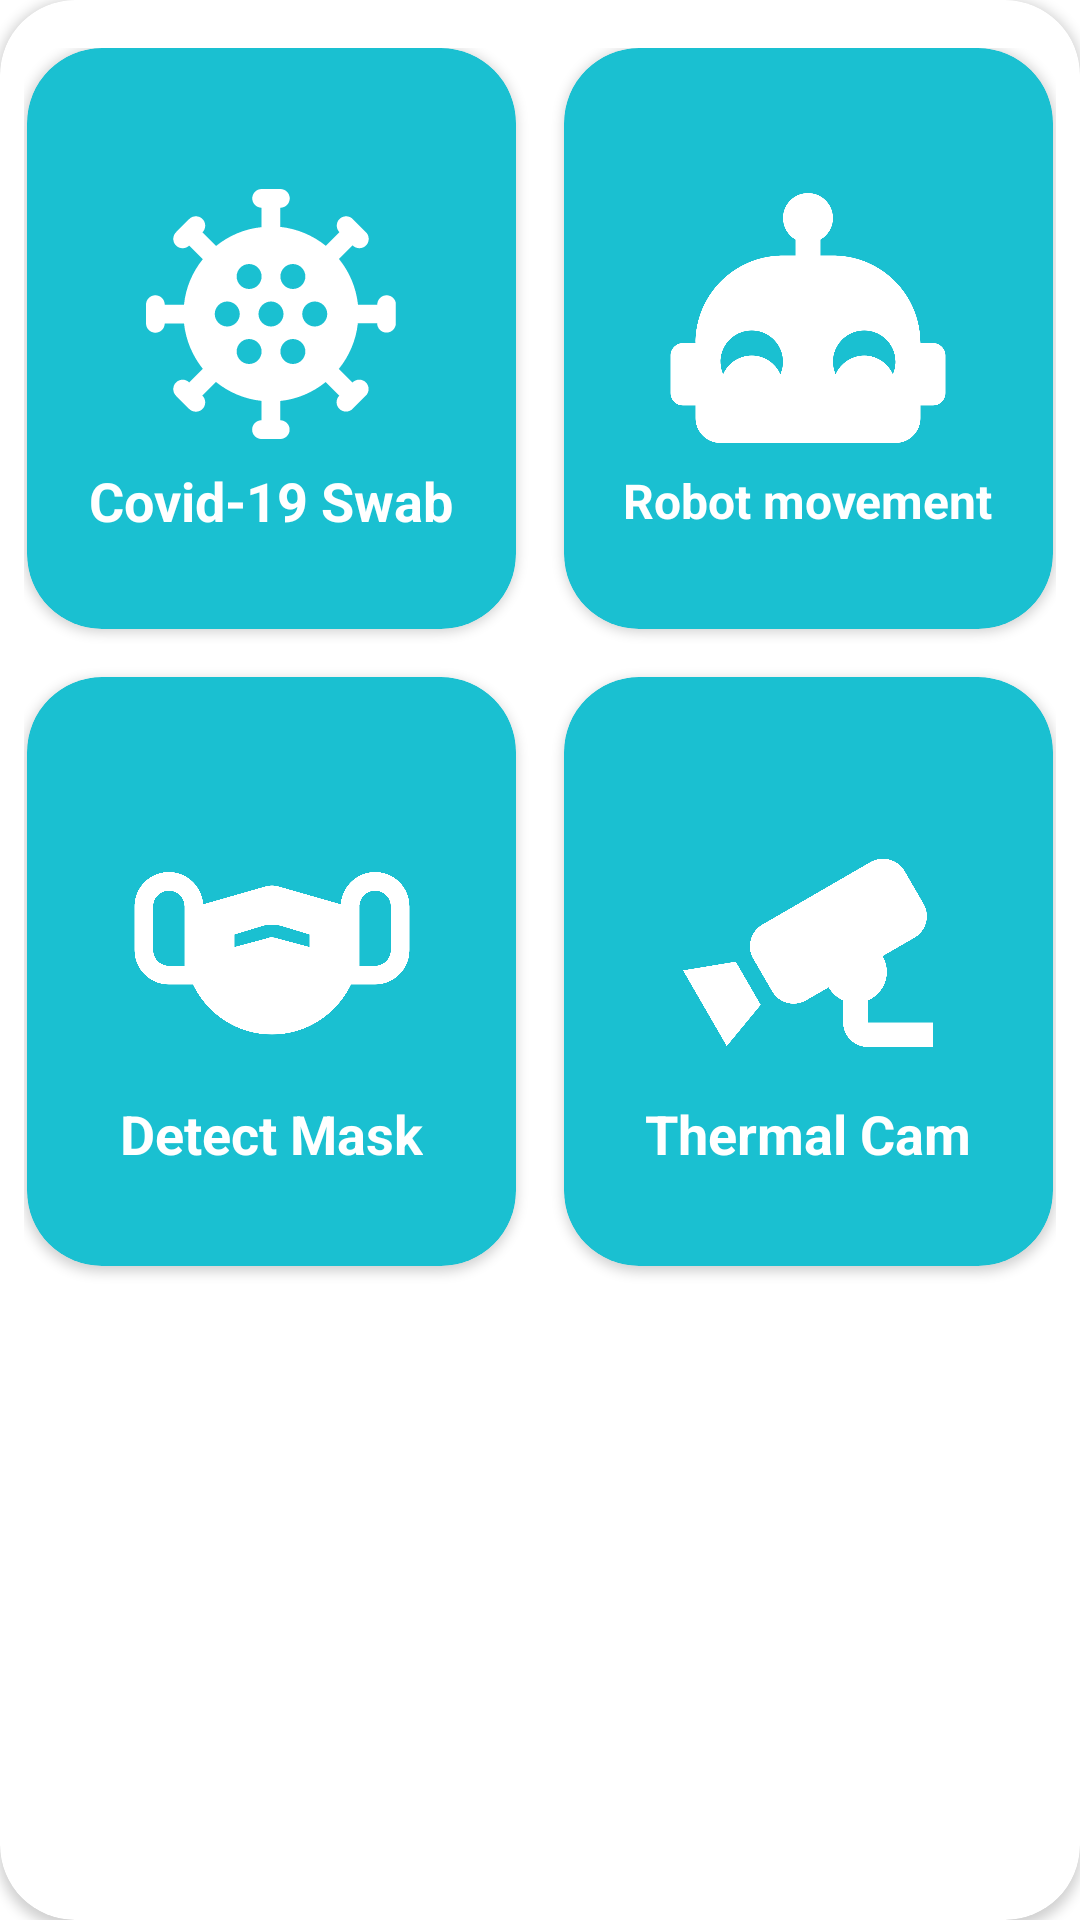

Icons on this 1080w x 1920h Android screen, each with the point to tap as (x=x, y=y):
control robot: (x=808, y=318)
